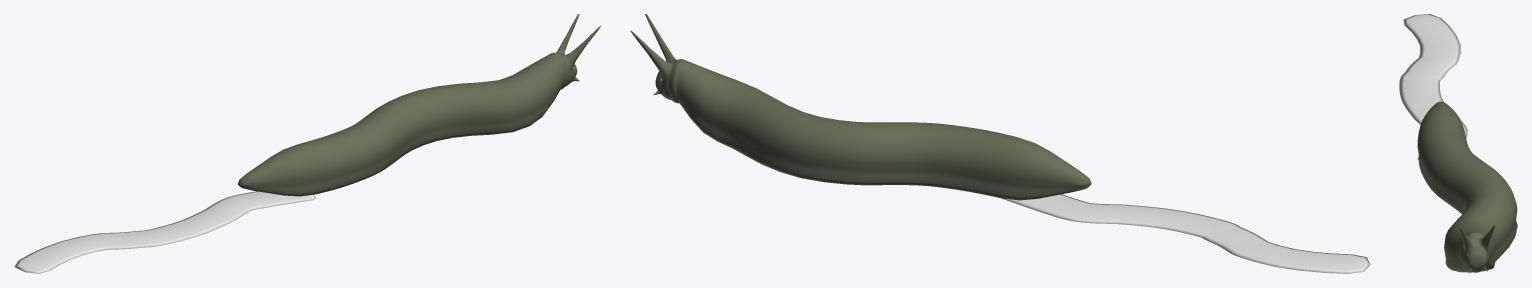
The model's file is 7ahixVBjj-J.glb.
The picture shows the model from 3 angles, left to right: view 1: azimuth 30°, elevation 25°; view 2: azimuth 150°, elevation 25°; view 3: azimuth 270°, elevation 25°; orthographic projection. The views are drawn at different scales.
Visible parts, largest first — view 1: Line001, Line002; view 2: Line001, Line002; view 3: Line001, Line002.
Part boxes in pixels (x1=…): Line001: x1=238, y1=14, x2=601, y2=196; Line002: x1=14, y1=191, x2=316, y2=273; Line001: x1=630, y1=14, x2=1091, y2=200; Line002: x1=1001, y1=194, x2=1370, y2=273; Line001: x1=1417, y1=101, x2=1517, y2=273; Line002: x1=1399, y1=14, x2=1467, y2=159.
Size of the model in its own units: 7.3 by 1 by 1.22.
